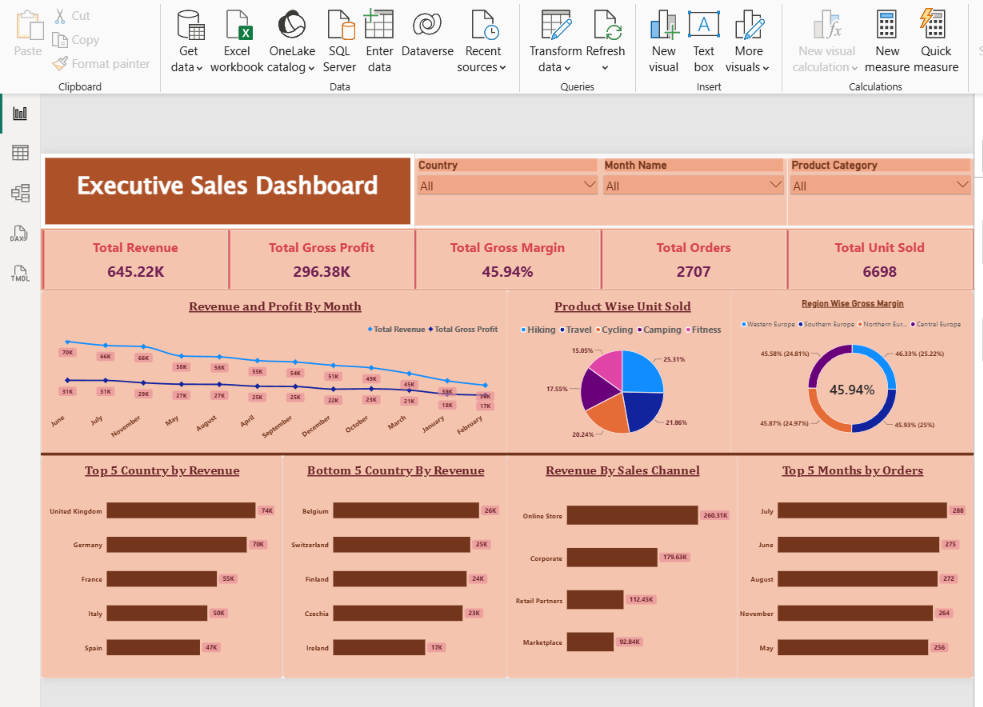

This screenshot's page, from the dashboard's own definition file:
{"tool":"powerbi","page":{"name":"Page 1","canvas":[1920,1080],"ordinal":0},"visuals":[{"type":"cardVisual","fields":{"Data":["Measuress.Total Revenue","Measuress.Total Gross Profit","Measuress.Total Gross Margin","Measuress.Total Orders","Measuress.Total Unit Sold"]},"box":[0,154.4,1920.4,127.6],"z":0},{"type":"textbox","box":[0,0,769.8,154.4],"z":1000},{"type":"slicer","fields":{"Values":["SalesData.Country"]},"box":[769.8,10.3,382.8,137.9],"z":2000,"group":"g1"},{"type":"slicer","fields":{"Values":["Date.Month_Name"]},"box":[1153.7,10.3,382.8,137.9],"z":3000,"group":"g1"},{"type":"lineChart","title":"Revenue and Profit By Month","fields":{"Category":["Date.Month_Name"],"Y":["Measuress.Total Revenue"],"Y2":["Measuress.Total Gross Profit"]},"box":[0,282,963.3,337.6],"z":3000},{"type":"slicer","fields":{"Values":["SalesData.Product Category"]},"box":[1537.1,10.3,382.8,137.9],"z":4000,"group":"g1"},{"type":"clusteredBarChart","title":"Top 5 Country by Revenue","fields":{"Category":["SalesData.Country"],"Y":["Measuress.Total Revenue"]},"box":[0,619.6,498.1,461.1],"z":4000},{"type":"clusteredBarChart","title":"Top 5 Months by Orders","fields":{"Category":["Date.Month_Name"],"Y":["Measuress.Total Orders"]},"box":[1420.2,619.6,500.2,461.1],"z":5000},{"type":"clusteredBarChart","title":"Bottom 5 Country By Revenue","fields":{"Category":["SalesData.Country"],"Y":["Measuress.Total Revenue"]},"box":[498.1,619.6,463.1,461.1],"z":6000},{"type":"pieChart","title":"Product Wise Unit Sold","fields":{"Category":["SalesData.Product Category"],"Y":["Sum(SalesData.Units Sold)"]},"box":[959.2,282,475.5,337.6],"z":7000},{"type":"donutChart","title":"Region Wise Gross Margin","fields":{"Category":["SalesData.Region"],"Y":["Measuress.Total Gross Margin"]},"box":[1420.2,282,500.2,337.6],"z":8000},{"type":"clusteredBarChart","title":"Revenue By Sales Channel","fields":{"Category":["SalesData.Sales Channel"],"Y":["Measuress.Total Revenue"]},"box":[959.2,619.6,475.5,461.1],"z":9000},{"type":"shape","box":[0,543.4,1920.4,150.3],"z":10000},{"type":"group","id":"g1","title":"Group 1","box":[769.8,10.3,1150.2,137.9],"z":10001}]}

Visuals, with their boxes on the page's 1920x1080 design canvas (x1, y1, x2, y2). These are canvas units, not pixel positions in the 983x707 screenshot, which may show the page scaled, cropped or inside an application window:
cardVisual - Measuress.Total Revenue x Measuress.Total Gross Profit: bbox=(0, 154, 1920, 282)
textbox: bbox=(0, 0, 770, 154)
slicer - SalesData.Country: bbox=(770, 10, 1153, 148)
slicer - Date.Month_Name: bbox=(1154, 10, 1536, 148)
"Revenue and Profit By Month" lineChart: bbox=(0, 282, 963, 620)
slicer - SalesData.Product Category: bbox=(1537, 10, 1920, 148)
"Top 5 Country by Revenue" clusteredBarChart: bbox=(0, 620, 498, 1081)
"Top 5 Months by Orders" clusteredBarChart: bbox=(1420, 620, 1920, 1081)
"Bottom 5 Country By Revenue" clusteredBarChart: bbox=(498, 620, 961, 1081)
"Product Wise Unit Sold" pieChart: bbox=(959, 282, 1435, 620)
"Region Wise Gross Margin" donutChart: bbox=(1420, 282, 1920, 620)
"Revenue By Sales Channel" clusteredBarChart: bbox=(959, 620, 1435, 1081)
shape: bbox=(0, 543, 1920, 694)
"Group 1" group: bbox=(770, 10, 1920, 148)
